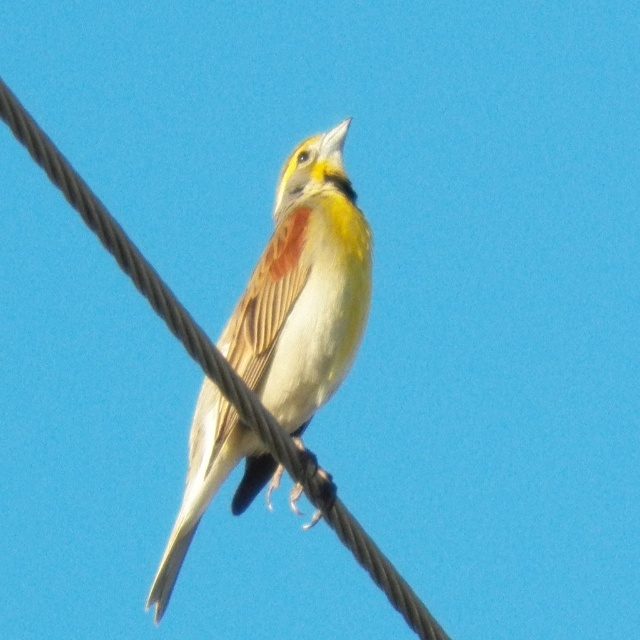Canary: (142, 114, 375, 624)
